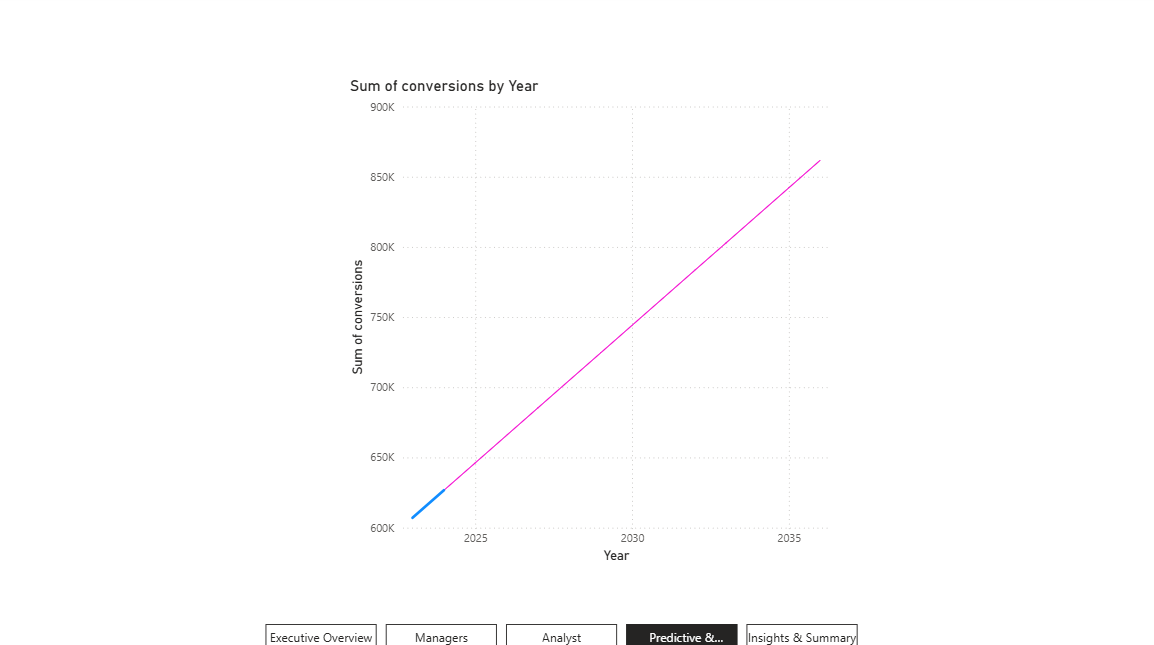

The page's visual inventory and layout, read from the dashboard file:
{"tool":"powerbi","page":{"name":"Predictive & Prescriptive","canvas":[1280,720],"ordinal":3},"visuals":[{"type":"lineChart","fields":{"Category":["marketing_campaign_portfolio_python.date.Variation.Date Hierarchy.Year","marketing_campaign_portfolio_python.date.Variation.Date Hierarchy.Quarter","marketing_campaign_portfolio_python.date.Variation.Date Hierarchy.Month","marketing_campaign_portfolio_python.date.Variation.Date Hierarchy.Day"],"Y":["Sum(marketing_campaign_portfolio_python.conversions)"]},"box":[387,90.6,539.3,539.3],"z":0},{"type":"pageNavigator","box":[299.1,691.2,653.2,28.8],"z":1000}]}

Visuals, with their boxes on the page's 1280x720 design canvas (x1, y1, x2, y2). These are canvas units, not pixel positions in the 1154x645 screenshot, which may show the page scaled, cropped or inside an application window:
lineChart - marketing_campaign_portfolio_python.date.Variation.Date Hierarchy.Year x marketing_campaign_portfolio_python.date.Variation.Date Hierarchy.Quarter: bbox=[387, 91, 926, 630]
pageNavigator: bbox=[299, 691, 952, 720]
